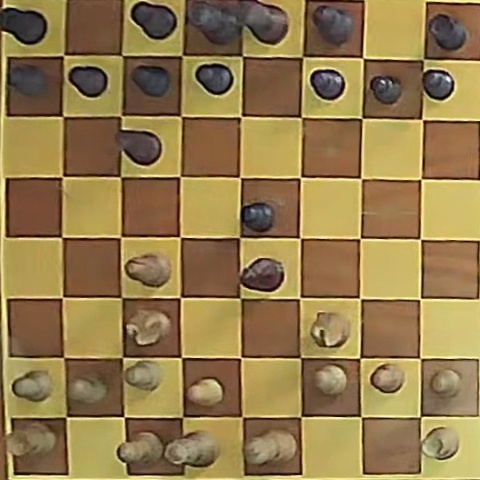black-bishop: (131, 2, 177, 40), (312, 5, 353, 46)
black-king: (233, 1, 288, 44)
black-knight: (116, 130, 161, 166), (240, 258, 284, 291)
black-pawn: (8, 63, 49, 97), (132, 65, 172, 97), (69, 65, 108, 97), (195, 64, 233, 94), (310, 69, 345, 100), (422, 69, 454, 100), (241, 202, 275, 231), (371, 75, 402, 104)
black-queen: (188, 1, 243, 45)
black-rook: (0, 7, 48, 46), (427, 13, 467, 51)
white-bishop: (118, 432, 164, 465), (125, 253, 170, 286)
white-king: (245, 430, 297, 466)
white-knight: (126, 309, 170, 345), (311, 312, 350, 347)
white-pawn: (12, 370, 53, 401), (69, 374, 108, 404), (125, 360, 162, 391), (314, 364, 348, 396), (187, 378, 223, 407), (371, 363, 405, 393), (430, 368, 461, 398)
white-queen: (164, 430, 219, 466)
white-rook: (6, 422, 57, 457), (422, 427, 460, 460)
